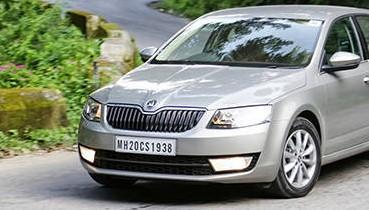MH20CS1938: (115, 135, 176, 155)
